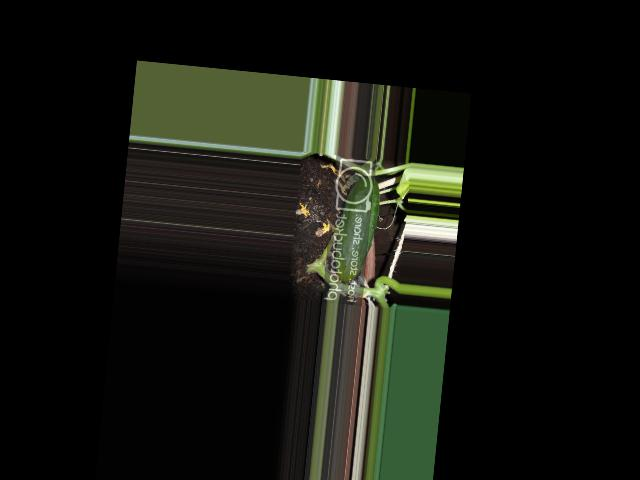cucumber: (331, 174, 381, 284)
